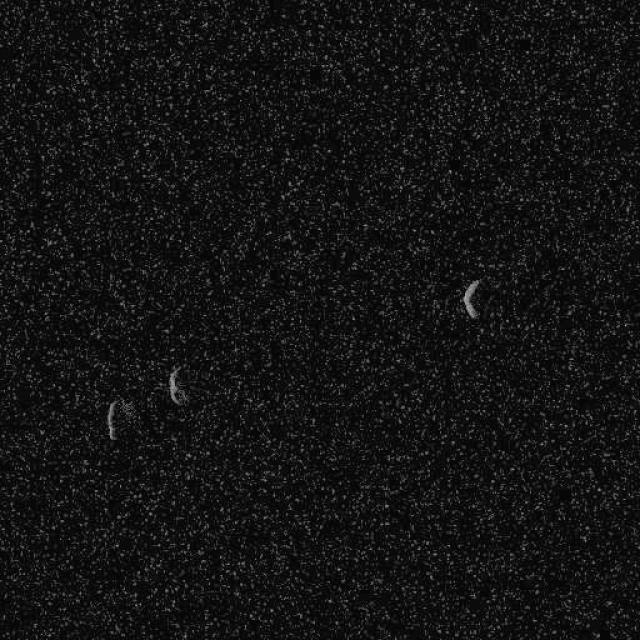D2: (166, 364, 189, 405), (462, 278, 482, 320), (105, 400, 117, 440)
